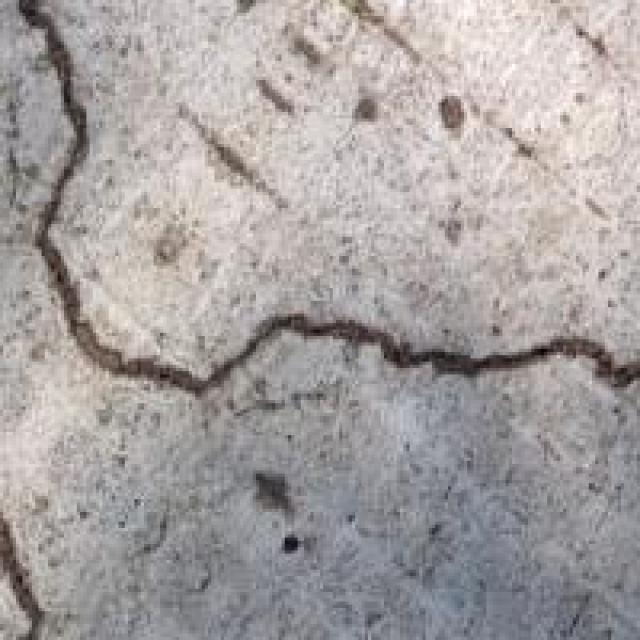crack: (0, 0, 637, 509)
